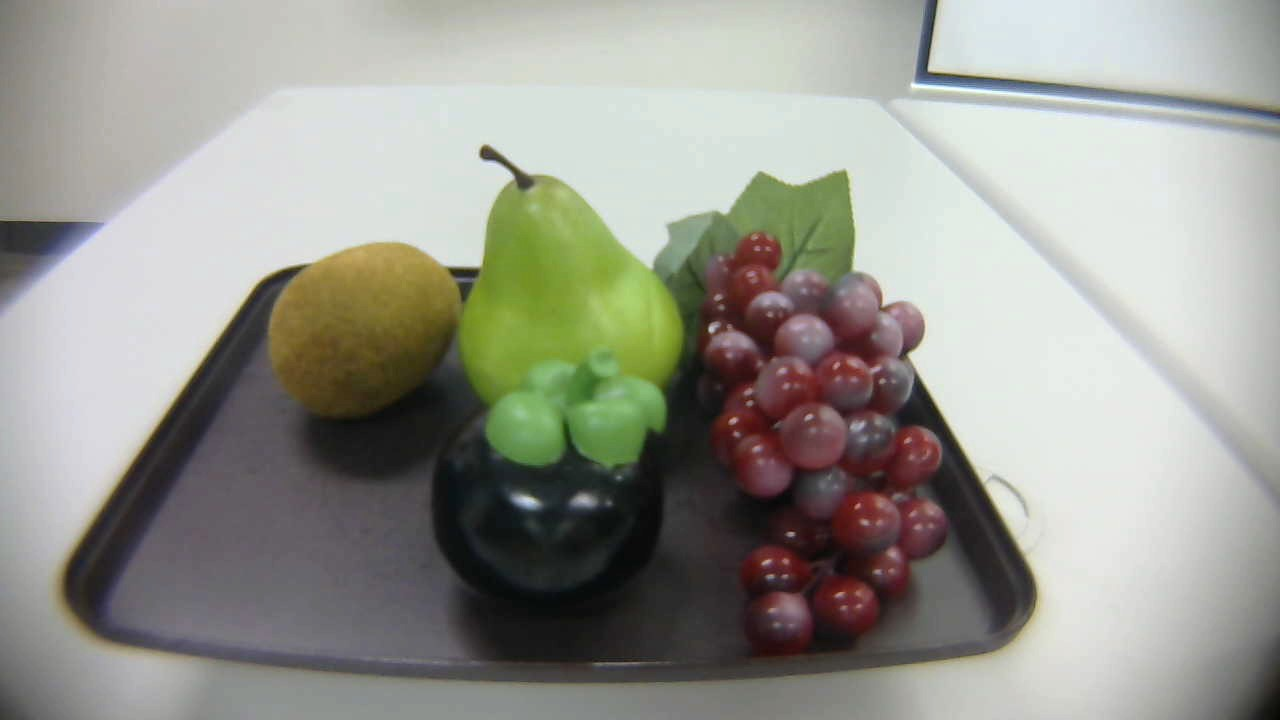grape: (653, 169, 955, 659)
green pear: (448, 139, 682, 426)
kiwi fruit: (257, 241, 472, 414)
mangosteen: (415, 352, 697, 609)
